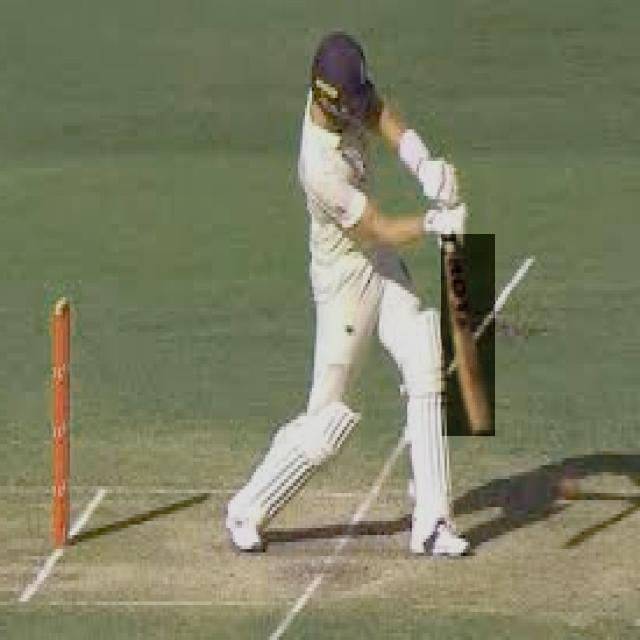bat: (444, 233, 497, 436)
toe: (475, 424, 496, 435)
